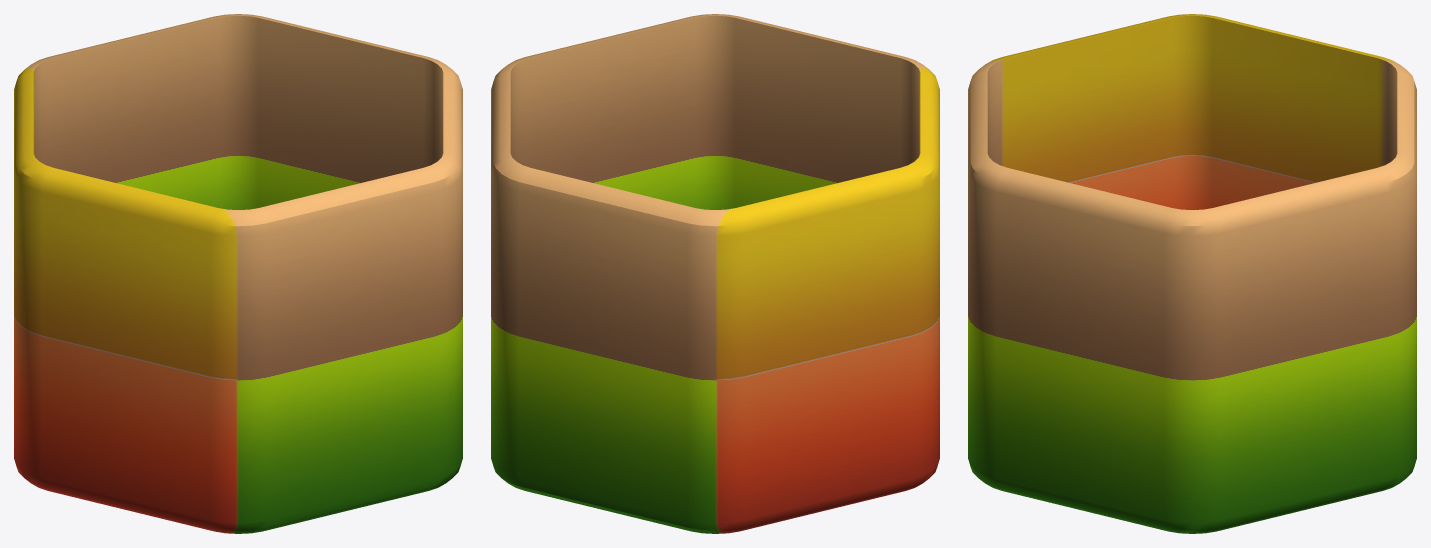
Rendered from hexa box2 (1) 1.fbx.
The picture shows the model from 3 angles, left to right: view 1: azimuth 30°, elevation 25°; view 2: azimuth 150°, elevation 25°; view 3: azimuth 270°, elevation 25°; orthographic projection.
Parts seen in each view (by area): view 1: Cylinder.058; view 2: Cylinder.058; view 3: Cylinder.058.
Part boxes in pixels (x1,y1,x2,y2): Cylinder.058: [14, 14, 462, 533]; Cylinder.058: [491, 14, 939, 533]; Cylinder.058: [968, 14, 1416, 533].
Size of the model in its own units: 194 by 140 by 174.
1 material, 1 textured.
